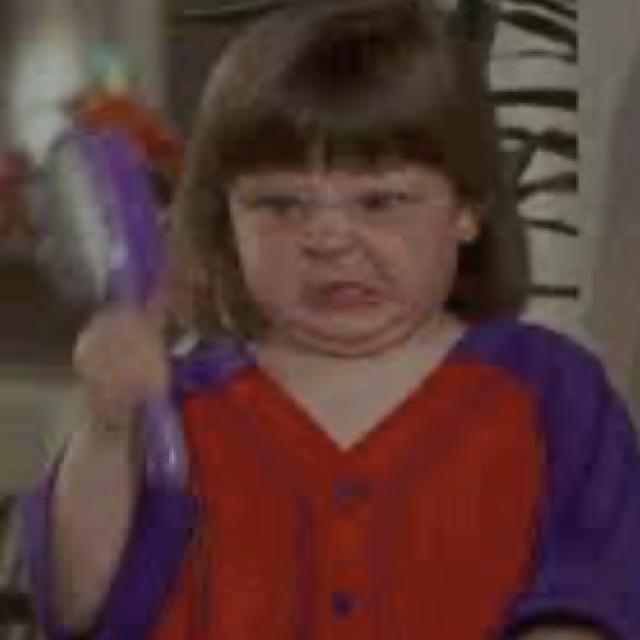angry: (152, 25, 523, 438)
